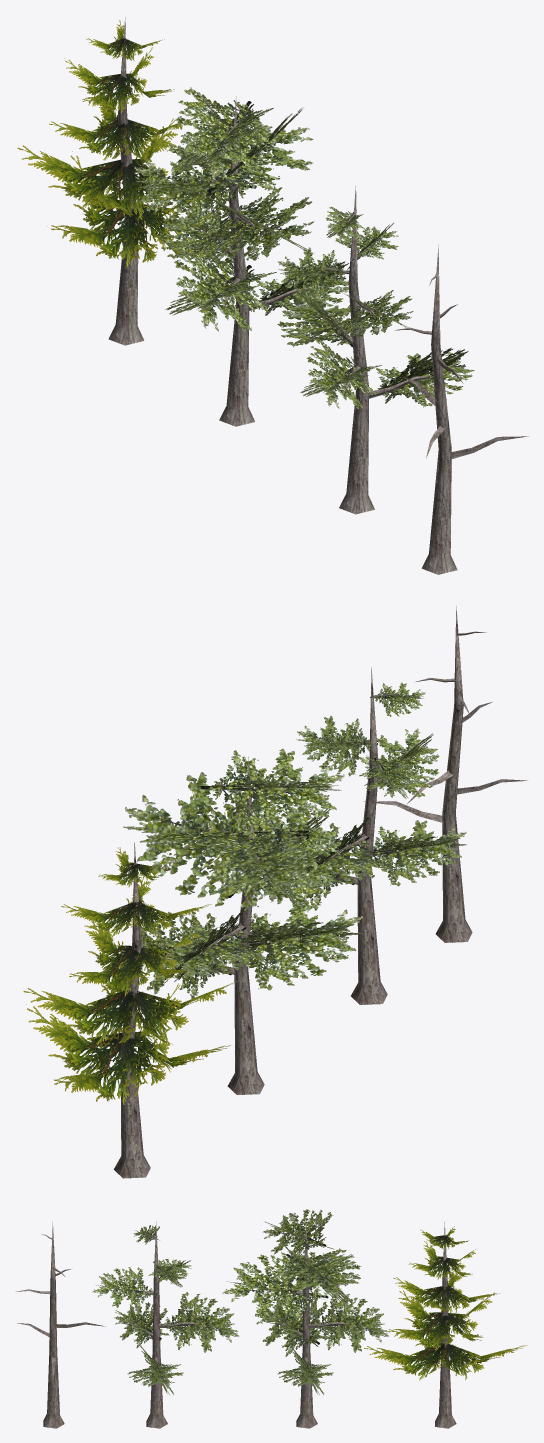
The model's file is arboles_de_baja_resolucion.glb.
3 views of the same model, one above another, from view 1: azimuth 30°, elevation 25°; view 2: azimuth 150°, elevation 25°; view 3: azimuth 270°, elevation 25° (orthographic). The views are drawn at different scales.
Parts seen in each view (by area): view 1: TexturesCom_Branches0018_1_masked_S-material (×2), Material_009-material (×4), TexturesCom_Branches0011_1_masked_S-material; view 2: TexturesCom_Branches0018_1_masked_S-material (×2), TexturesCom_Branches0011_1_masked_S-material, Material_009-material (×4); view 3: TexturesCom_Branches0018_1_masked_S-material (×2), TexturesCom_Branches0011_1_masked_S-material, Material_009-material (×4).
Part boxes in pixels (x1,y1,x2,y2): TexturesCom_Branches0018_1_masked_S-material (×2): (134,87,474,409); Material_009-material (×4): (108,17,528,574); TexturesCom_Branches0011_1_masked_S-material: (17,20,199,267); TexturesCom_Branches0018_1_masked_S-material (×2): (116,682,466,998); TexturesCom_Branches0011_1_masked_S-material: (23,847,242,1104); Material_009-material (×4): (114,606,527,1178); TexturesCom_Branches0018_1_masked_S-material (×2): (92,1209,388,1395); TexturesCom_Branches0011_1_masked_S-material: (364,1226,527,1380); Material_009-material (×4): (15,1221,456,1428).
Size of the model in its own units: 43.74 by 56.11 by 126.
3 materials, 3 textured.
